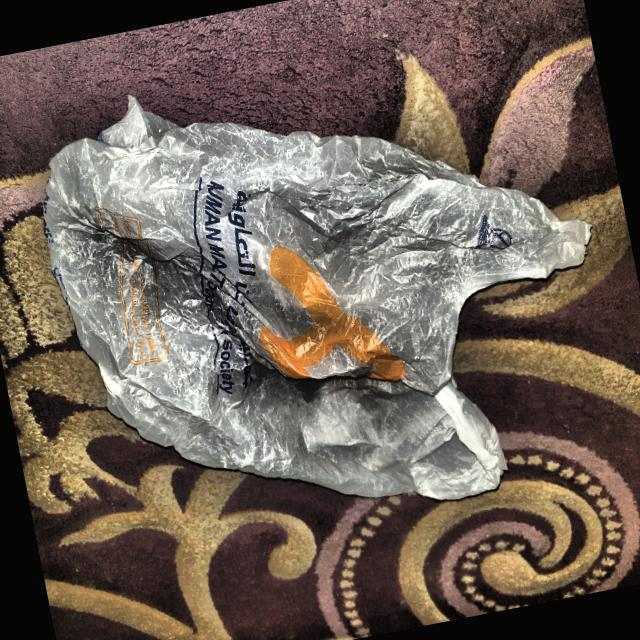plastic bag: (15, 10, 640, 579)
